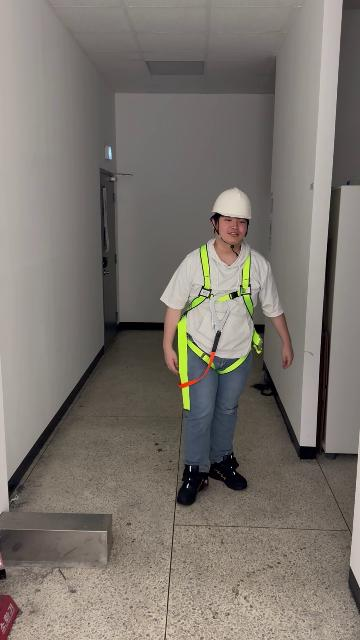helmet_worn: (210, 186, 253, 219)
shoe_worn: (207, 453, 247, 491), (176, 464, 209, 505)
vest_worn: (173, 254, 262, 407)
